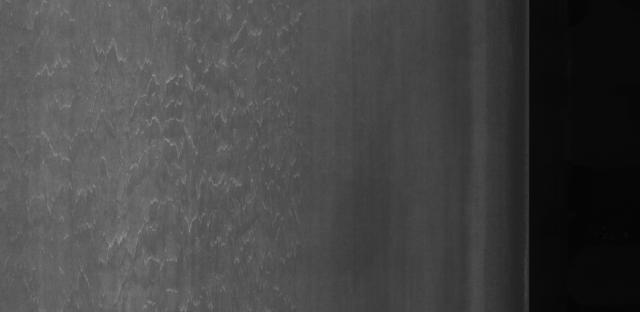silk_spot: (21, 164, 290, 296), (38, 85, 256, 183), (161, 13, 313, 98), (46, 29, 178, 89)
